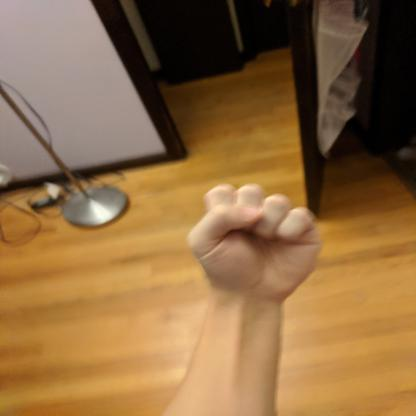S: (182, 180, 333, 306)
